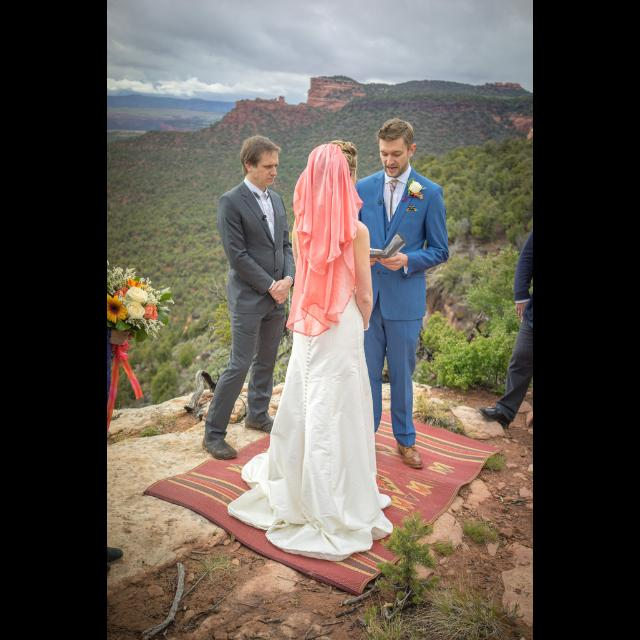Flower: (107, 260, 173, 336), (125, 298, 145, 318), (410, 182, 420, 192)
